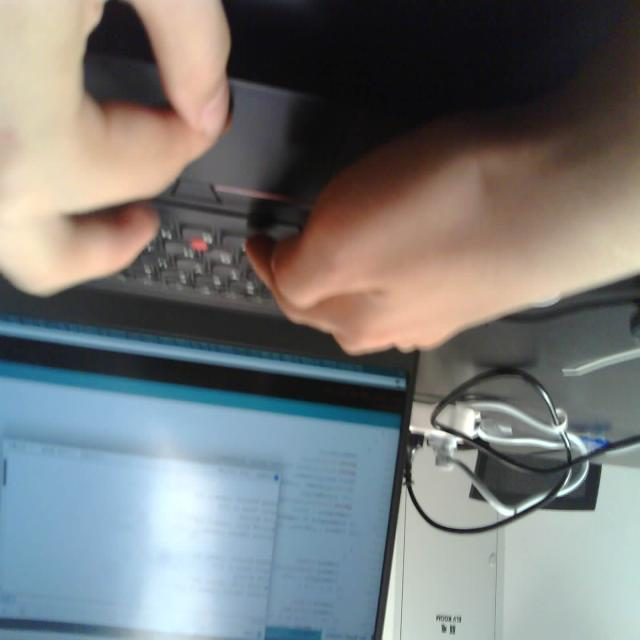keyboard-with-hands: (0, 0, 444, 349)
